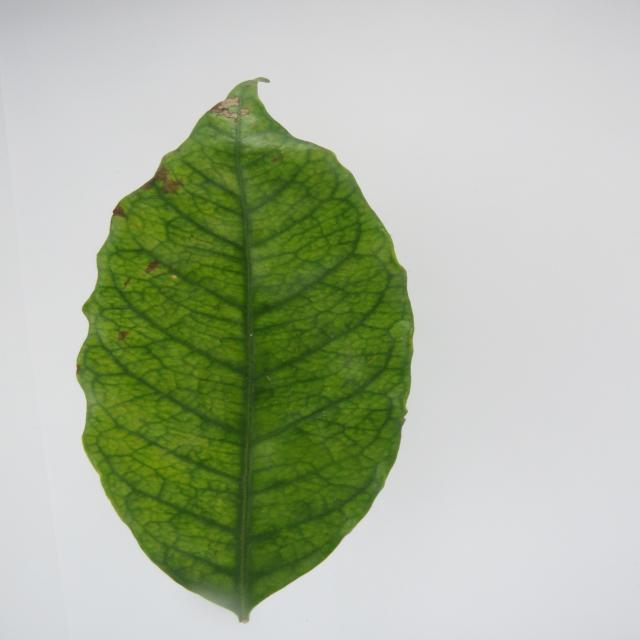DeficienciaNutricional-Magnesio: (78, 79, 413, 621)
